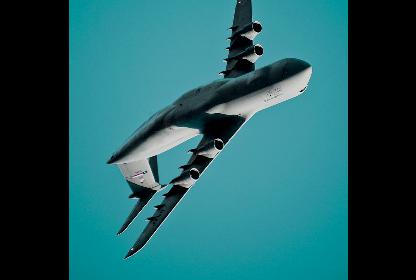C17: (105, 0, 313, 258)
